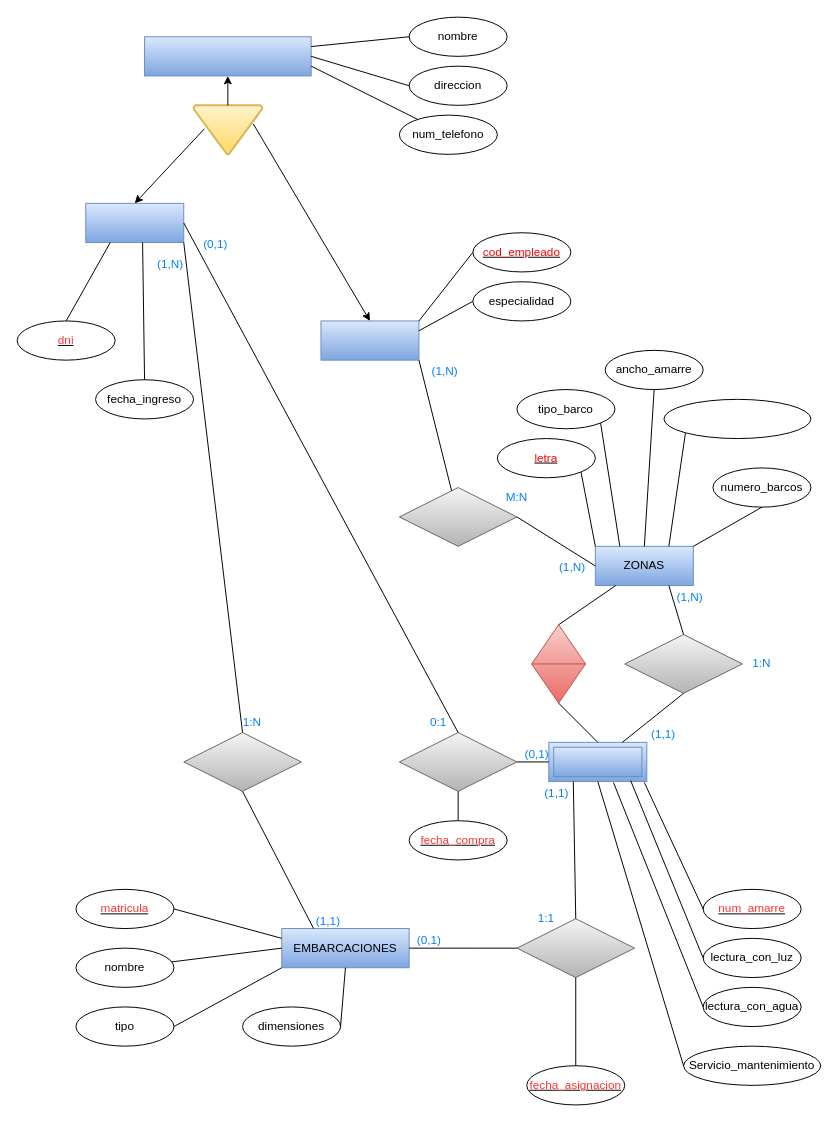
Image size: 838x1122. Some labels were removed from this diagram. Each missing label, with the box of its shape:
AMARRES: (548, 741, 647, 782)
asignado: (398, 487, 517, 546)
compra: (398, 732, 517, 791)
DATOS_PERSONALES: (144, 36, 311, 76)
E tiene: (531, 624, 586, 703)
EMPLEADOS: (320, 320, 419, 360)
ocupa: (516, 918, 635, 978)
pertenece: (183, 732, 301, 791)
profundidad_amarre: (663, 398, 811, 439)
SOCIOS: (85, 202, 184, 243)
tiene: (624, 634, 742, 693)
